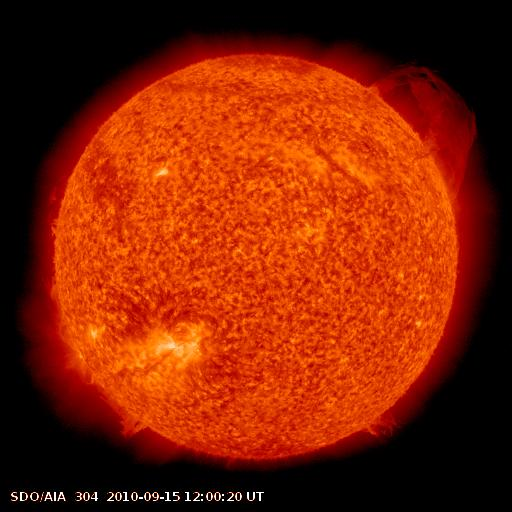prominence: (360, 49, 483, 204), (83, 368, 159, 445), (34, 275, 90, 354), (38, 165, 81, 243), (343, 397, 409, 447)
